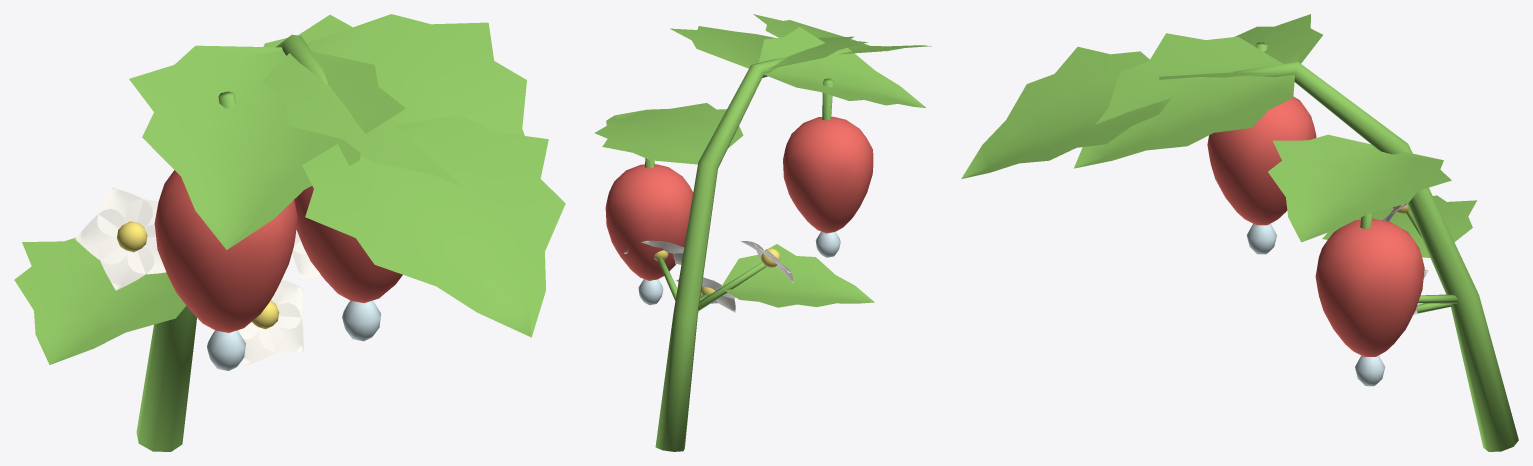
Rendered from strawberry_plant_v2.glb.
The picture shows the model from 3 angles, left to right: view 1: azimuth 30°, elevation 25°; view 2: azimuth 150°, elevation 25°; view 3: azimuth 270°, elevation 25°; orthographic projection. The views are drawn at different scales.
Parts seen in each view (by area): view 1: SM_Forest_StrawberryPlant_V2; view 2: SM_Forest_StrawberryPlant_V2; view 3: SM_Forest_StrawberryPlant_V2.
Part boxes in pixels (box(x1,y1,x2,y2)): SM_Forest_StrawberryPlant_V2: box(14, 14, 565, 451); SM_Forest_StrawberryPlant_V2: box(594, 14, 931, 451); SM_Forest_StrawberryPlant_V2: box(961, 14, 1518, 451).
Size of the model in its own units: 2.5 by 2.79 by 3.66.
